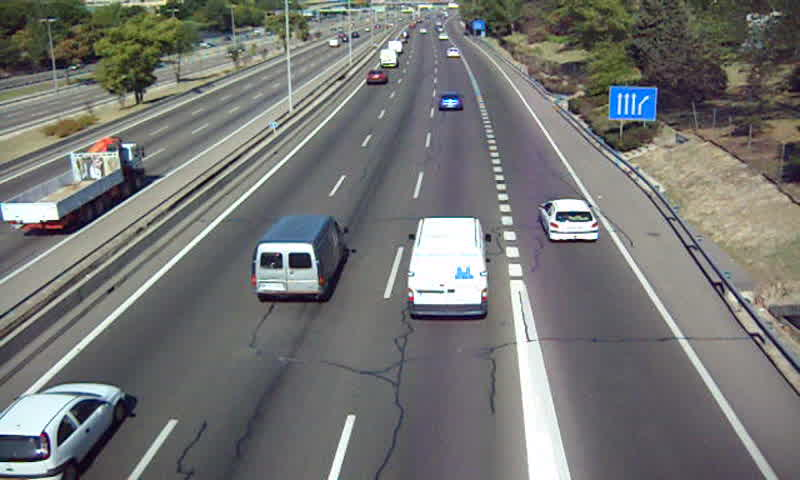car: (1, 381, 123, 479), (539, 197, 600, 244), (437, 92, 465, 111), (365, 69, 388, 85)
van: (250, 215, 346, 303), (407, 217, 488, 317), (379, 49, 398, 68)
